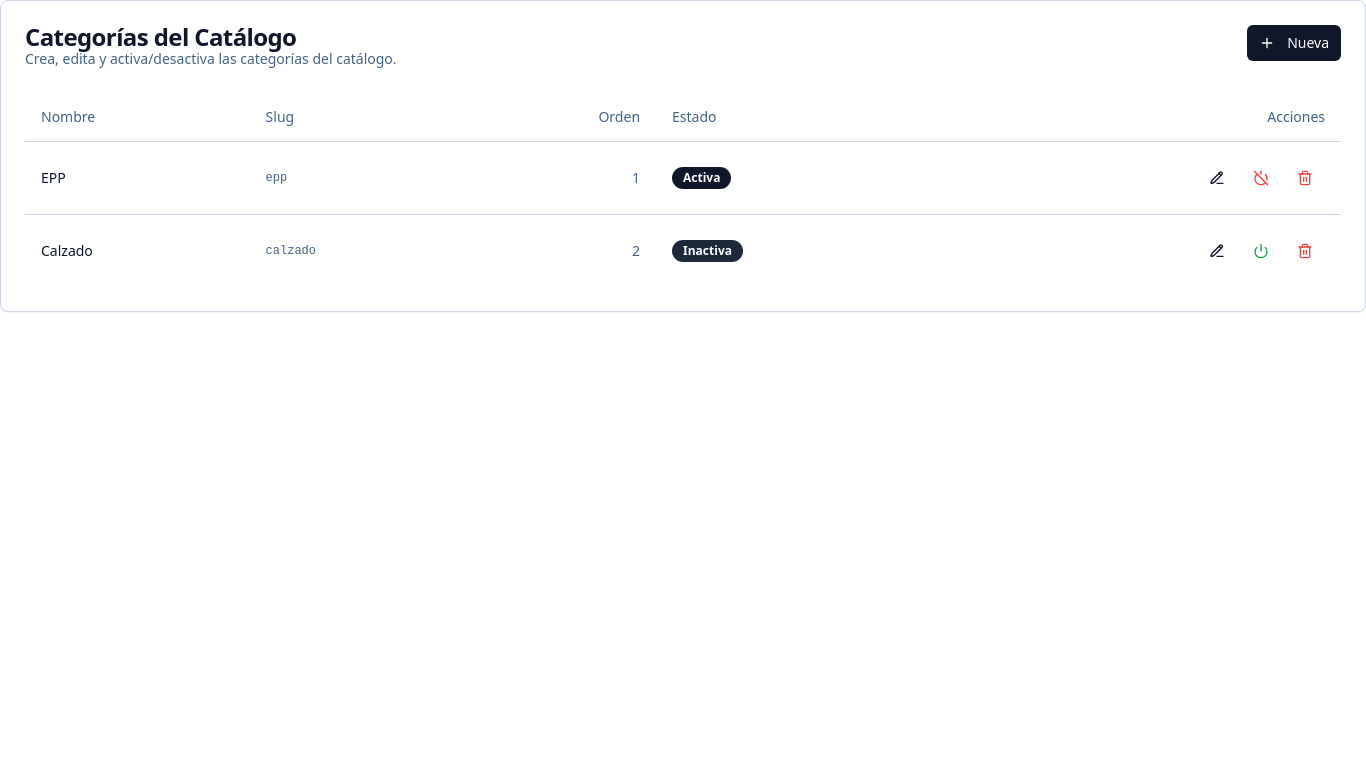
it: CategoryManager — persistence (HU-2.3) › opens create dialog with empty form on Nueva click
Expected: the text "EPP" is shown, [25,141,250,214]
Click the button "Nueva". click: (1294, 43)
box: [1247,25,1341,61]
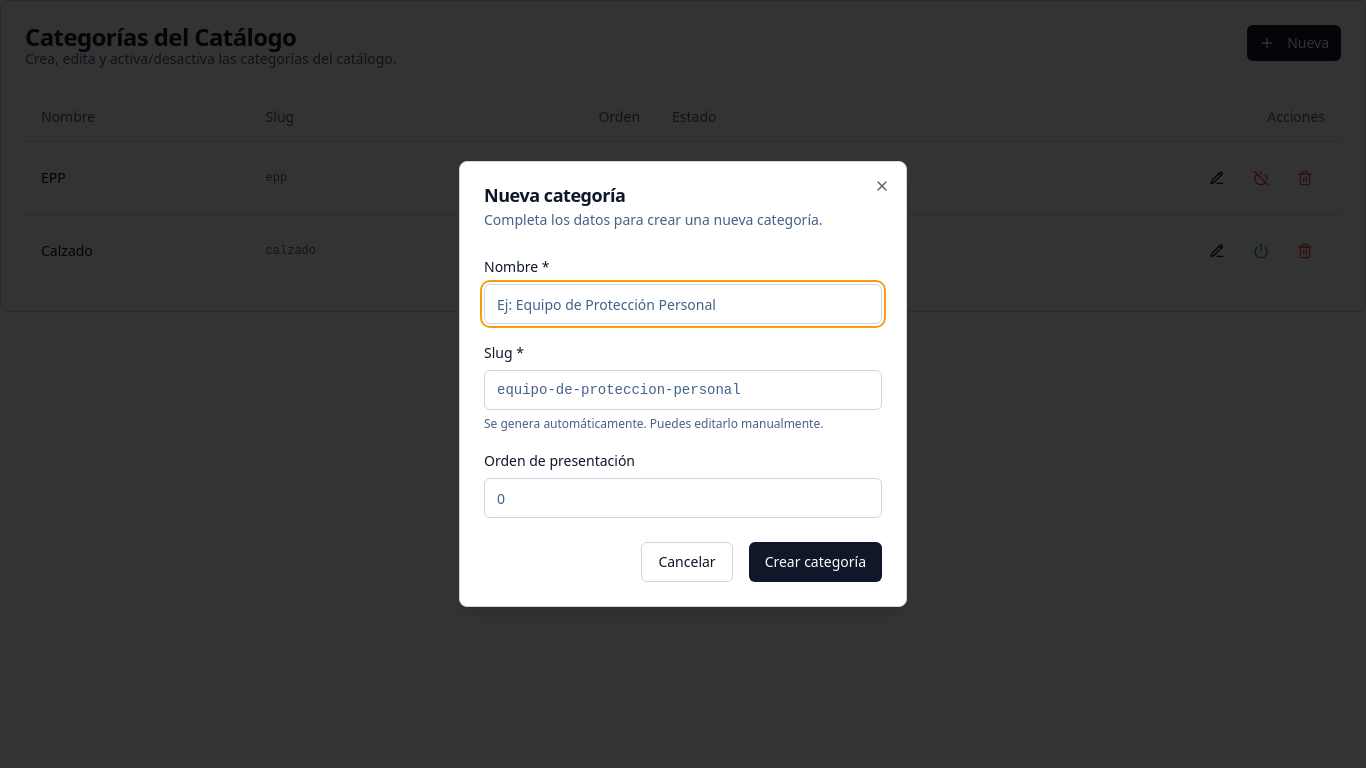
Expected: the dialog is shown, [459,161,907,607]
Expected: the heading "Nueva categoría" is shown, [484,183,625,207]
Expected: the field labelled "Nombre *" is empty, [484,284,882,324]
